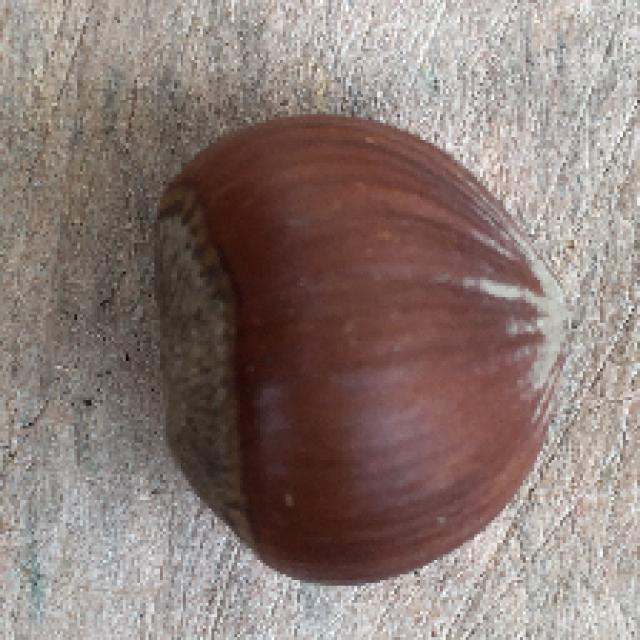qualityHazelnut: (132, 101, 570, 596)
